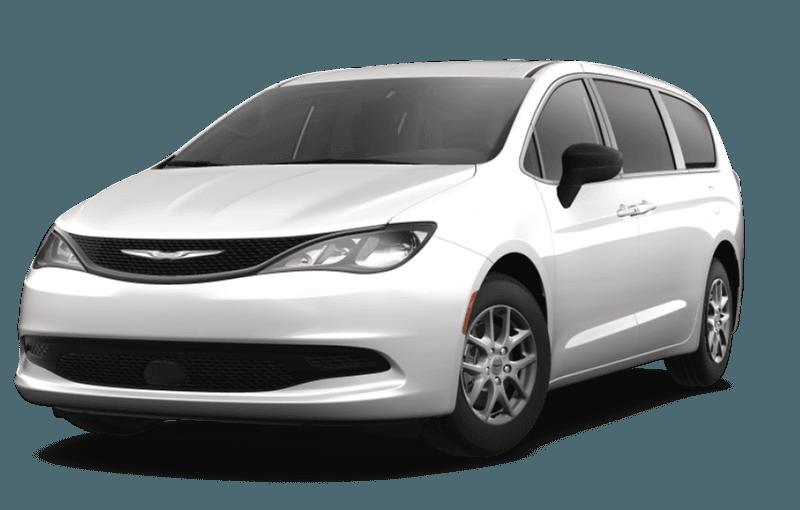Minivan: (15, 62, 745, 457)
